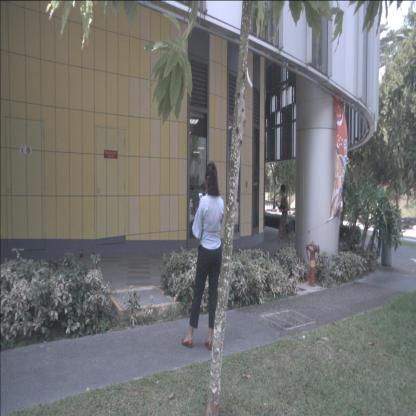human-pedestrian-adult: (181, 162, 225, 351), (273, 184, 294, 258)
